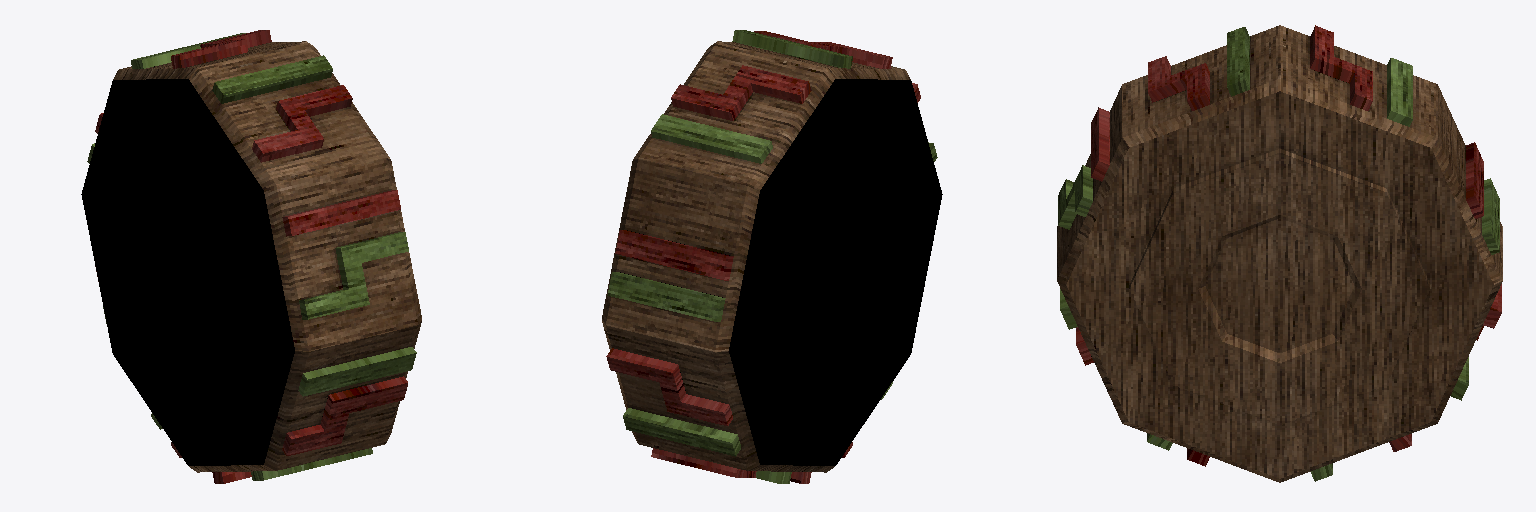
3 renders of one model, left to right at view 1: azimuth 30°, elevation 25°; view 2: azimuth 150°, elevation 25°; view 3: azimuth 270°, elevation 25°, orthographic.
Visible parts, largest first — view 1: Codex_part6; view 2: Codex_part6; view 3: Codex_part6.
Boxes of the visible parts, x1,y1,x2,y2 form: Codex_part6: [81, 30, 421, 483]; Codex_part6: [602, 30, 942, 483]; Codex_part6: [1057, 25, 1502, 482].
Bounding box in the file's own units: 23.59 × 67.37 × 67.37.
3 materials, 3 textured.